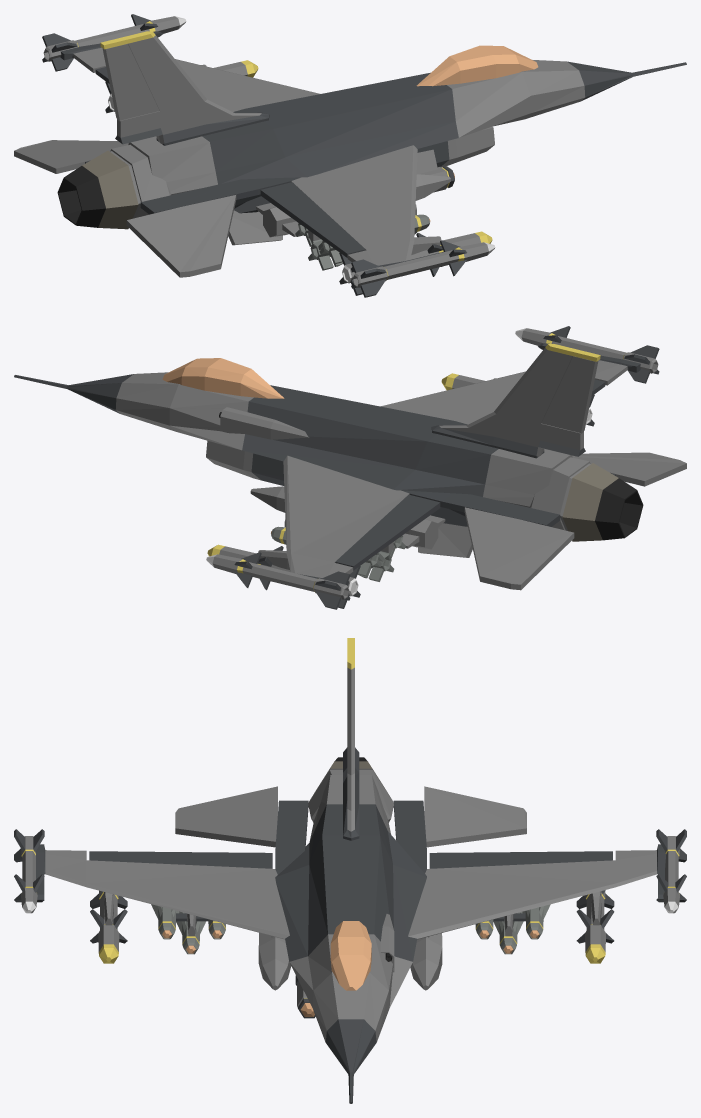
Rendered from scene_fix.gltf.
3 views of the same model, one above another, from view 1: azimuth 30°, elevation 25°; view 2: azimuth 150°, elevation 25°; view 3: azimuth 270°, elevation 25° (orthographic). The views are drawn at different scales.
Bounding box in the file's own units: 922 × 319 × 838.
